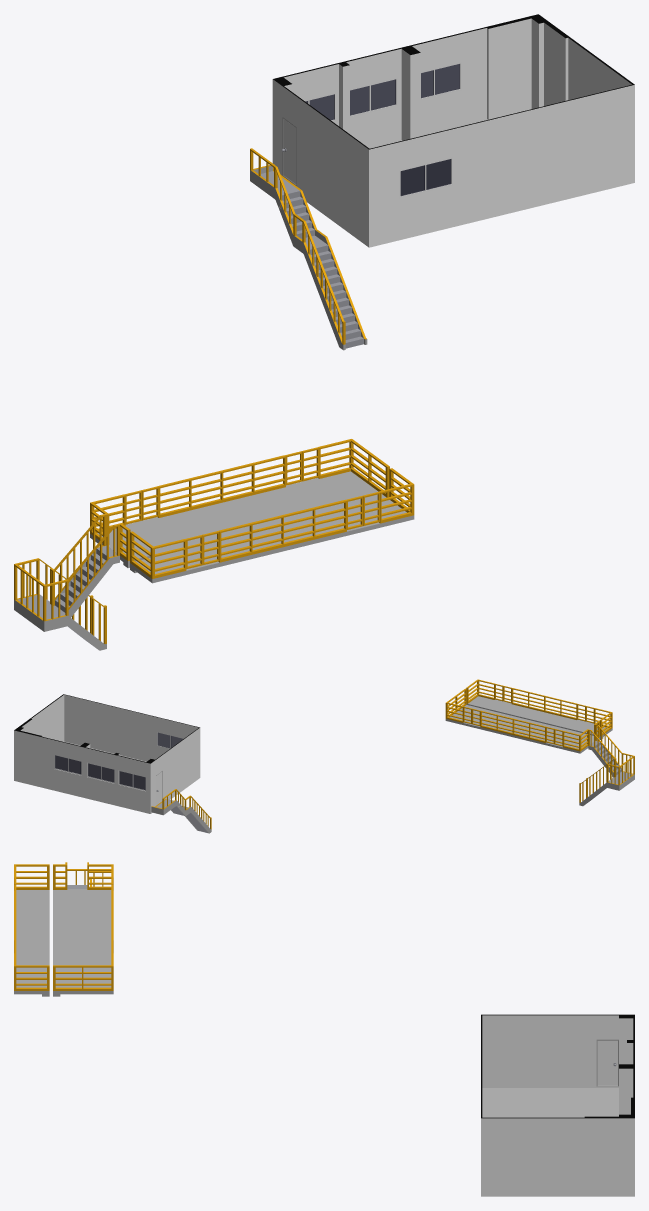
File: soubrain_T1-1-2F.glb
3 views of the same model, one above another, from view 1: azimuth 30°, elevation 25°; view 2: azimuth 150°, elevation 25°; view 3: azimuth 270°, elevation 25° (orthographic). The views are drawn at different scales.
Visible parts, largest first — view 1: T1-1-2F_Wall, T1-1-2F_Terrace, T1-1-1~2F_Stair, T1-1-2F_Window, T1-1-2F_Floor, T1-1-2F_Door; view 2: T1-1-2F_Wall, T1-1-2F_Terrace, T1-1-1~2F_Stair, T1-1-2F_Window, T1-1-2F_Floor; view 3: T1-1-2F_Wall, T1-1-2F_Terrace, T1-1-2F_Floor, T1-1-2F_Door.
Part boxes in pixels (x1,y1,x2,y2): T1-1-2F_Wall: (272, 14, 634, 247); T1-1-2F_Terrace: (90, 439, 414, 583); T1-1-1~2F_Stair: (14, 148, 367, 650); T1-1-2F_Window: (304, 62, 461, 198); T1-1-2F_Floor: (369, 119, 487, 195); T1-1-2F_Door: (281, 117, 296, 185); T1-1-2F_Wall: (14, 694, 200, 813); T1-1-2F_Terrace: (445, 679, 612, 753); T1-1-1~2F_Stair: (151, 724, 634, 833); T1-1-2F_Window: (54, 732, 183, 790); T1-1-2F_Floor: (55, 741, 146, 789); T1-1-2F_Wall: (481, 1014, 634, 1196); T1-1-2F_Terrace: (14, 864, 113, 996); T1-1-2F_Floor: (482, 1088, 618, 1117); T1-1-2F_Door: (596, 1039, 618, 1086).
Bounding box in the file's own units: 31.77 × 7 × 25.15.
Materials: 8 (1 with a texture image).
